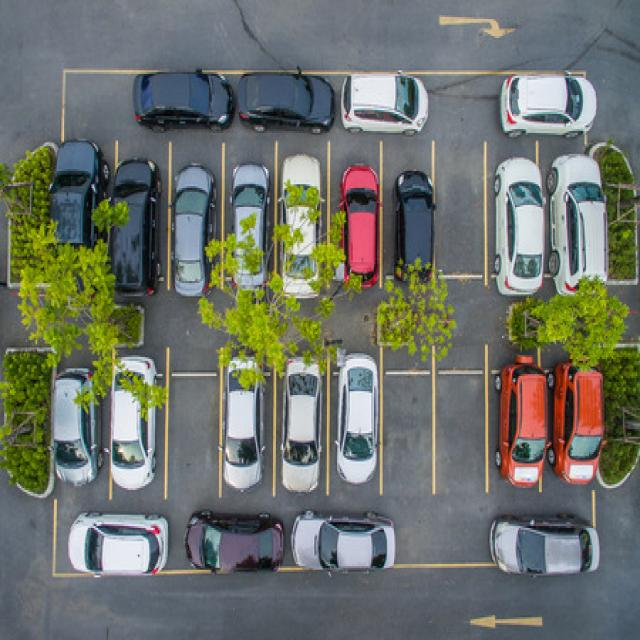libre: (388, 366, 481, 492), (401, 503, 484, 568), (452, 160, 484, 283), (184, 381, 204, 497)
ocupado: (54, 125, 444, 307), (51, 352, 177, 580), (493, 65, 613, 302), (481, 354, 605, 574), (210, 352, 384, 504), (132, 63, 432, 147), (185, 498, 396, 572)
